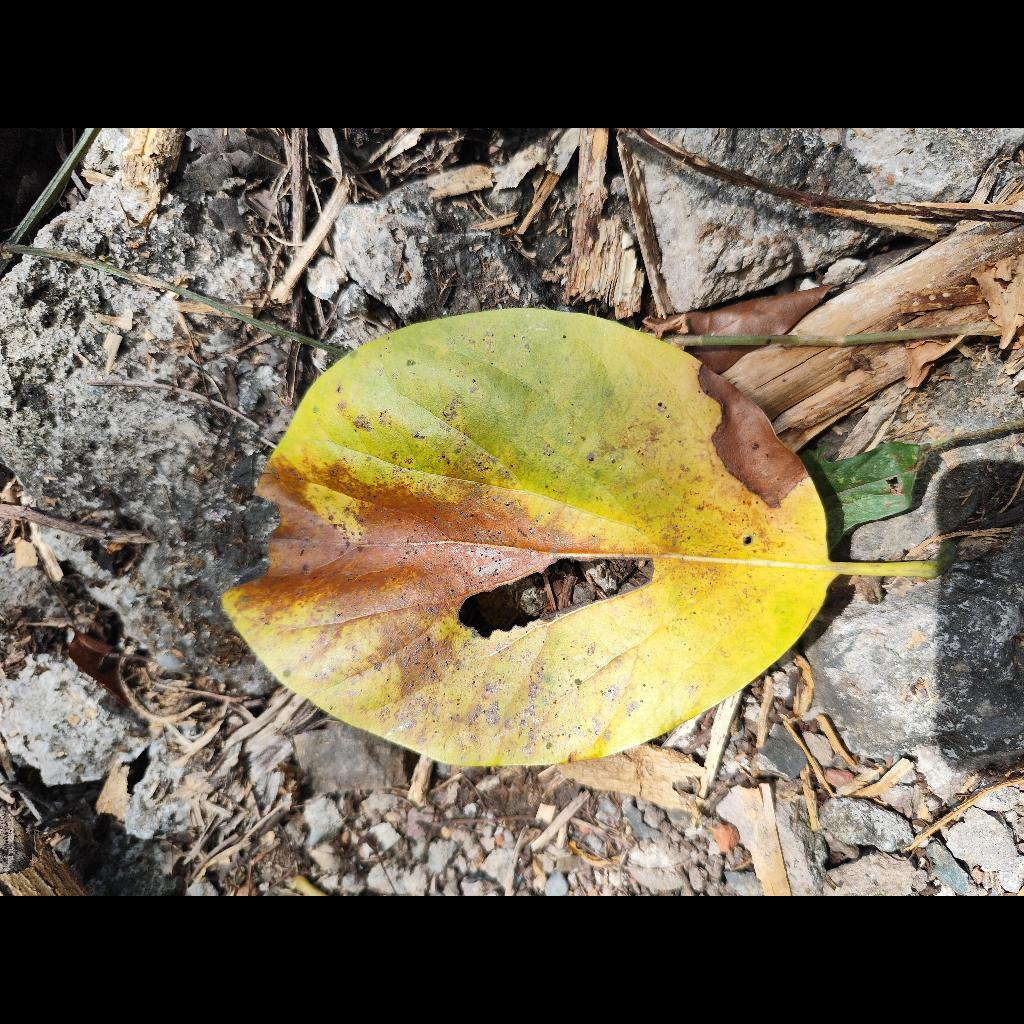deficiencia_nutricional: (223, 310, 946, 765)
